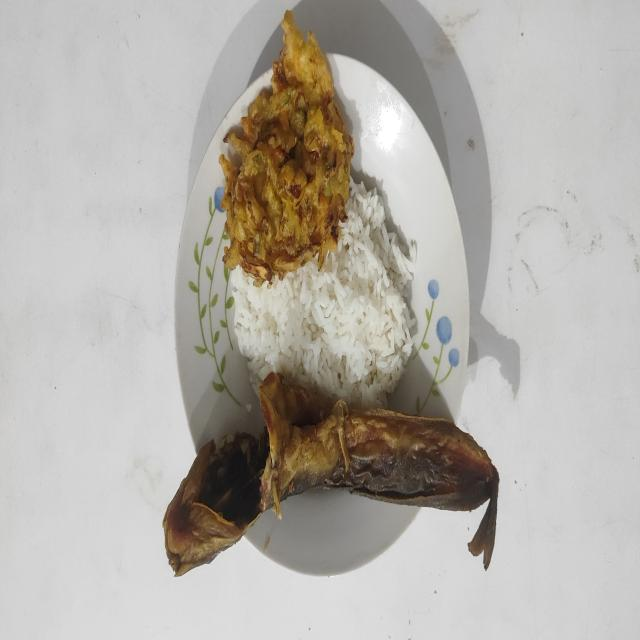nasi_putih: (229, 178, 416, 406)
